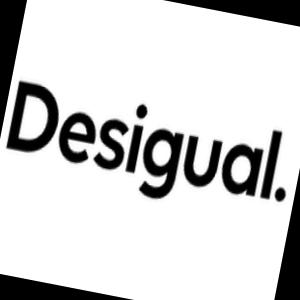desigual: (0, 70, 300, 226)
